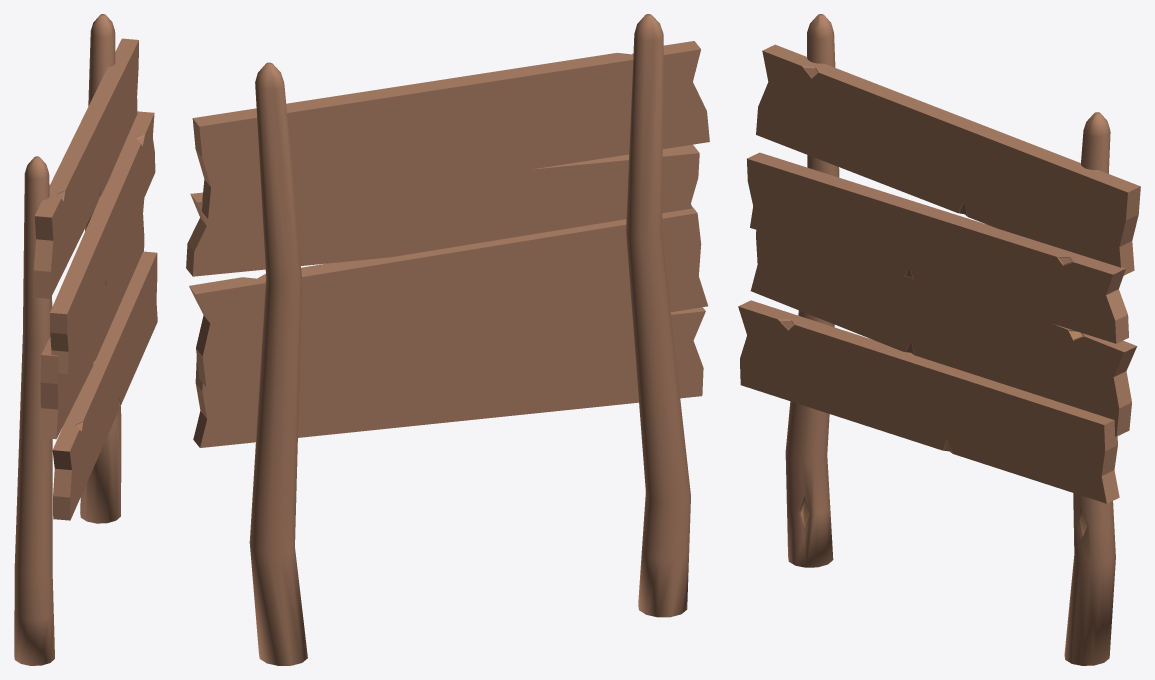
The model's file is SmallSignTuto.fbx.
3 views of the same model, side by side, from view 1: azimuth 30°, elevation 25°; view 2: azimuth 150°, elevation 25°; view 3: azimuth 270°, elevation 25° (orthographic). The views are drawn at different scales.
Visible parts, largest first — view 1: Cube.008; view 2: Cube.008; view 3: Cube.008.
Part boxes in pixels (bbox=[...]): Cube.008: bbox=[14, 14, 157, 665]; Cube.008: bbox=[186, 14, 709, 665]; Cube.008: bbox=[738, 14, 1140, 665].
Bounding box in the file's own units: 146 × 250 × 165.
